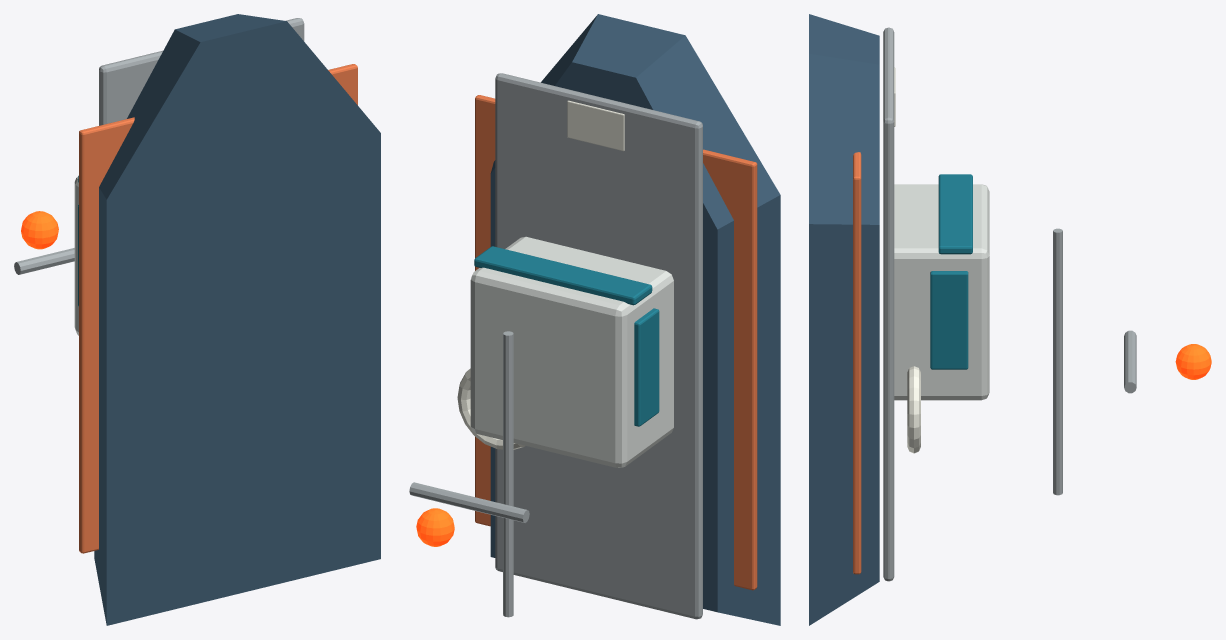
File: navigation-vessel.glb
3 renders of one model, left to right at view 1: azimuth 30°, elevation 25°; view 2: azimuth 150°, elevation 25°; view 3: azimuth 270°, elevation 25°, orthographic. The views are drawn at different scales.
Visible parts, largest first — view 1: CM_NAVIGATION_VESSEL_HULL, CM_NAVIGATION_VESSEL_STRIPE, CM_NAVIGATION_VESSEL_DECK, CM_NAVIGATION_VESSEL_BEACON, CM_NAVIGATION_VESSEL_RADAR, CM_NAVIGATION_VESSEL_CABIN; view 2: CM_NAVIGATION_VESSEL_DECK, CM_NAVIGATION_VESSEL_HULL, CM_NAVIGATION_VESSEL_CABIN, CM_NAVIGATION_VESSEL_STRIPE, CM_NAVIGATION_VESSEL_BRIDGE_WINDOW, CM_NAVIGATION_VESSEL_MAST, CM_NAVIGATION_VESSEL_PORT_WINDOW, CM_NAVIGATION_VESSEL_BOW_MARKING, CM_NAVIGATION_VESSEL_RADAR, CM_NAVIGATION_VESSEL_BEACON, CM_NAVIGATION_VESSEL_LIFE_RING; view 3: CM_NAVIGATION_VESSEL_HULL, CM_NAVIGATION_VESSEL_CABIN, CM_NAVIGATION_VESSEL_DECK, CM_NAVIGATION_VESSEL_STARBOARD_WINDOW, CM_NAVIGATION_VESSEL_STRIPE, CM_NAVIGATION_VESSEL_BRIDGE_WINDOW, CM_NAVIGATION_VESSEL_MAST, CM_NAVIGATION_VESSEL_LIFE_RING, CM_NAVIGATION_VESSEL_BEACON, CM_NAVIGATION_VESSEL_RADAR.
Boxes of the visible parts, x1,y1,x2,y2 form: CM_NAVIGATION_VESSEL_HULL: [94, 14, 380, 625]; CM_NAVIGATION_VESSEL_STRIPE: [79, 64, 357, 553]; CM_NAVIGATION_VESSEL_DECK: [99, 18, 304, 125]; CM_NAVIGATION_VESSEL_BEACON: [21, 211, 58, 249]; CM_NAVIGATION_VESSEL_RADAR: [14, 248, 74, 274]; CM_NAVIGATION_VESSEL_CABIN: [74, 176, 78, 335]; CM_NAVIGATION_VESSEL_DECK: [495, 73, 702, 619]; CM_NAVIGATION_VESSEL_HULL: [490, 14, 780, 625]; CM_NAVIGATION_VESSEL_CABIN: [470, 236, 673, 467]; CM_NAVIGATION_VESSEL_STRIPE: [475, 95, 757, 590]; CM_NAVIGATION_VESSEL_BRIDGE_WINDOW: [474, 246, 652, 305]; CM_NAVIGATION_VESSEL_MAST: [503, 331, 513, 617]; CM_NAVIGATION_VESSEL_PORT_WINDOW: [634, 308, 659, 426]; CM_NAVIGATION_VESSEL_BOW_MARKING: [567, 100, 624, 151]; CM_NAVIGATION_VESSEL_RADAR: [409, 482, 529, 522]; CM_NAVIGATION_VESSEL_BEACON: [416, 508, 454, 546]; CM_NAVIGATION_VESSEL_LIFE_RING: [457, 368, 525, 449]; CM_NAVIGATION_VESSEL_HULL: [809, 14, 879, 625]; CM_NAVIGATION_VESSEL_CABIN: [894, 184, 989, 400]; CM_NAVIGATION_VESSEL_DECK: [883, 27, 894, 581]; CM_NAVIGATION_VESSEL_STARBOARD_WINDOW: [930, 271, 968, 369]; CM_NAVIGATION_VESSEL_STRIPE: [853, 152, 861, 574]; CM_NAVIGATION_VESSEL_BRIDGE_WINDOW: [938, 174, 972, 254]; CM_NAVIGATION_VESSEL_MAST: [1053, 228, 1062, 495]; CM_NAVIGATION_VESSEL_LIFE_RING: [907, 366, 920, 453]; CM_NAVIGATION_VESSEL_BEACON: [1175, 344, 1211, 379]; CM_NAVIGATION_VESSEL_RADAR: [1124, 330, 1136, 393].
Bounding box in the file's own units: 3.33 × 6.45 × 4.45.
